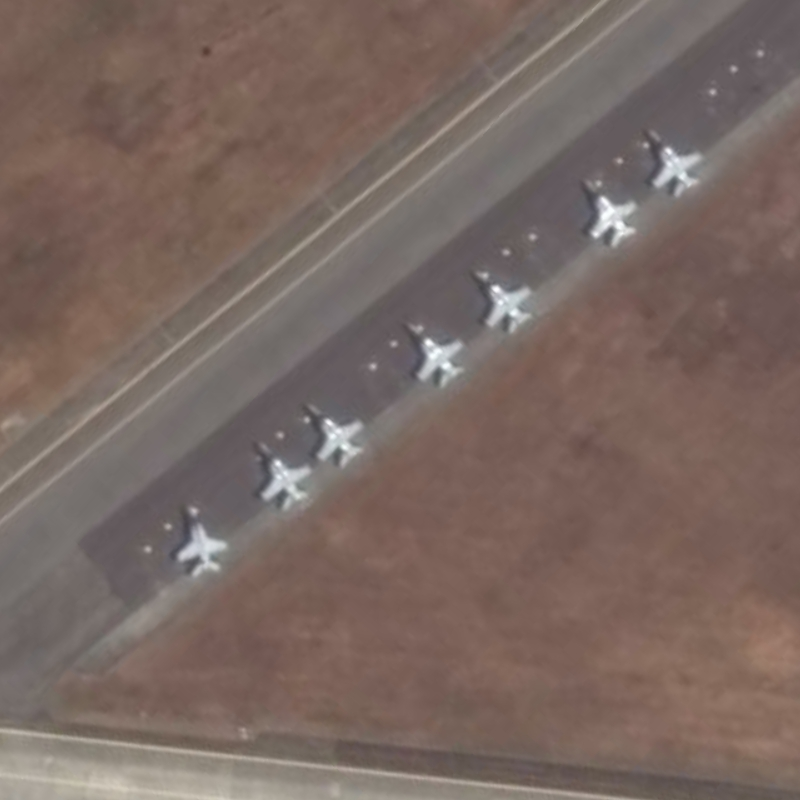A16: (575, 168, 648, 250), (467, 261, 541, 337), (640, 118, 707, 200), (167, 494, 230, 581), (401, 314, 467, 394), (301, 396, 366, 472), (253, 436, 310, 516)
